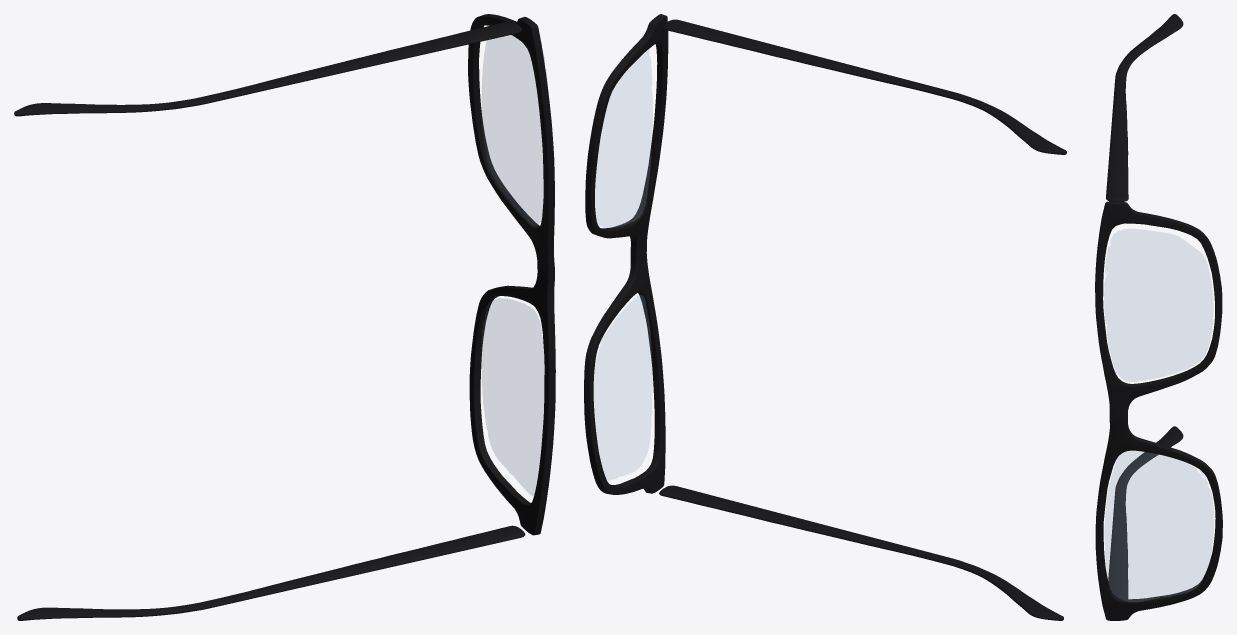
File: model_0_black.glb
3 renders of one model, left to right at view 1: azimuth 30°, elevation 25°; view 2: azimuth 150°, elevation 25°; view 3: azimuth 270°, elevation 25°, orthographic. The views are drawn at different scales.
Visible parts, largest first — view 1: o model_0, Blue_Transparent_Lens_1, Blue_Transparent_Lens_2; view 2: o model_0, Blue_Transparent_Lens_1, Blue_Transparent_Lens_2; view 3: o model_0, Blue_Transparent_Lens_2, Blue_Transparent_Lens_1.
Part boxes in pixels (bbox=[...]): o model_0: bbox=[14, 14, 555, 620]; Blue_Transparent_Lens_1: bbox=[481, 298, 544, 496]; Blue_Transparent_Lens_2: bbox=[482, 35, 546, 225]; o model_0: bbox=[584, 14, 1066, 620]; Blue_Transparent_Lens_1: bbox=[594, 295, 652, 480]; Blue_Transparent_Lens_2: bbox=[595, 49, 652, 227]; o model_0: bbox=[1095, 14, 1222, 620]; Blue_Transparent_Lens_2: bbox=[1104, 229, 1213, 381]; Blue_Transparent_Lens_1: bbox=[1104, 451, 1213, 601].
Bounding box in the file's own units: 12.74 × 12.44 × 3.46.
